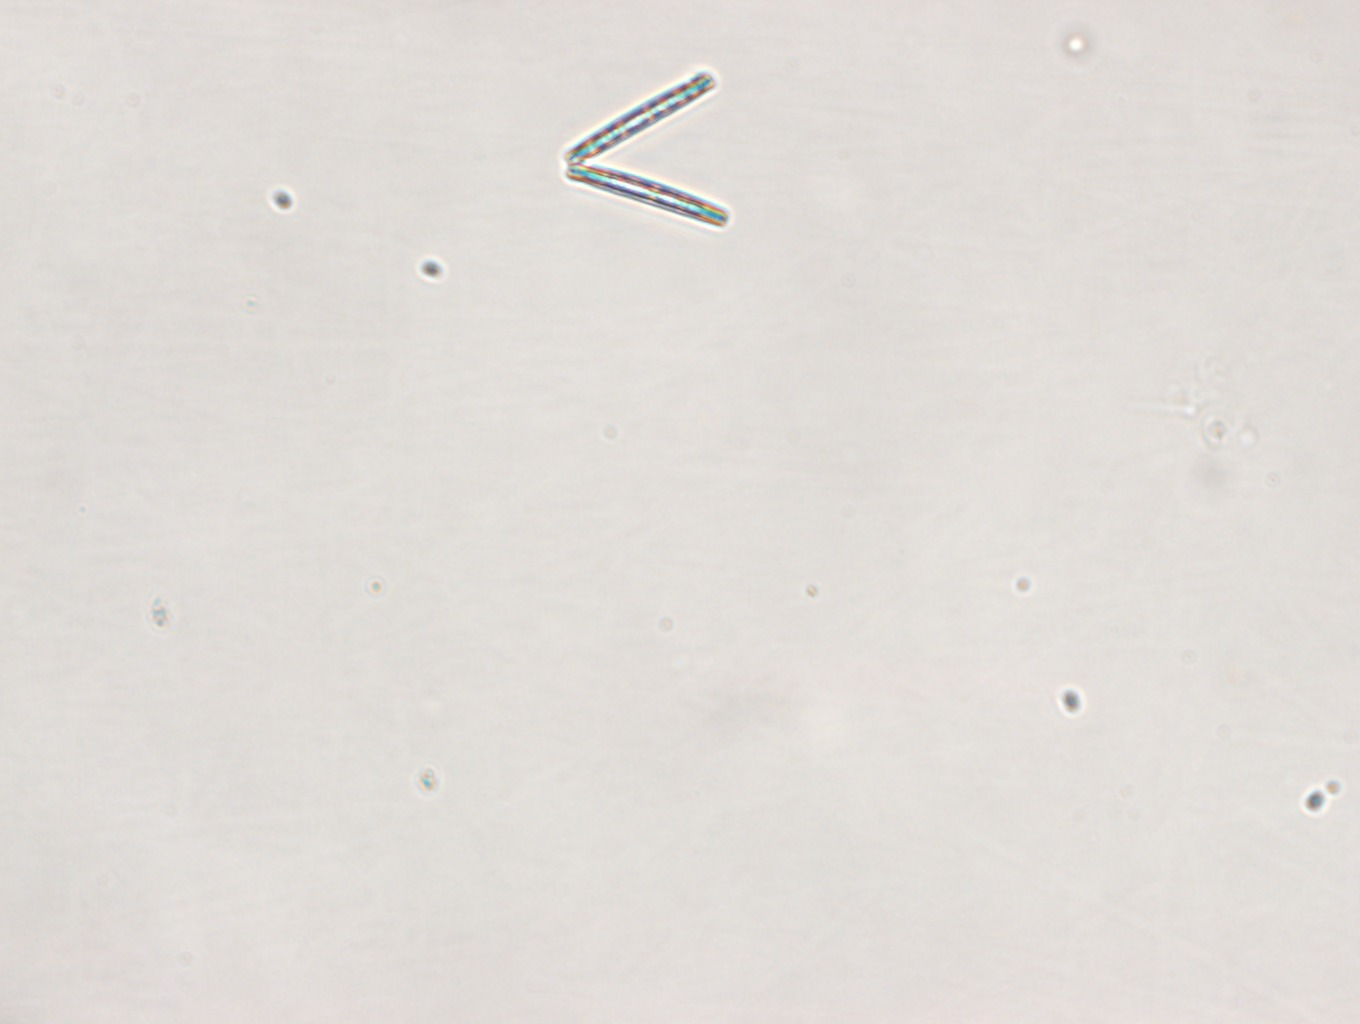thalassionema nitzschioides: (562, 68, 733, 229)
